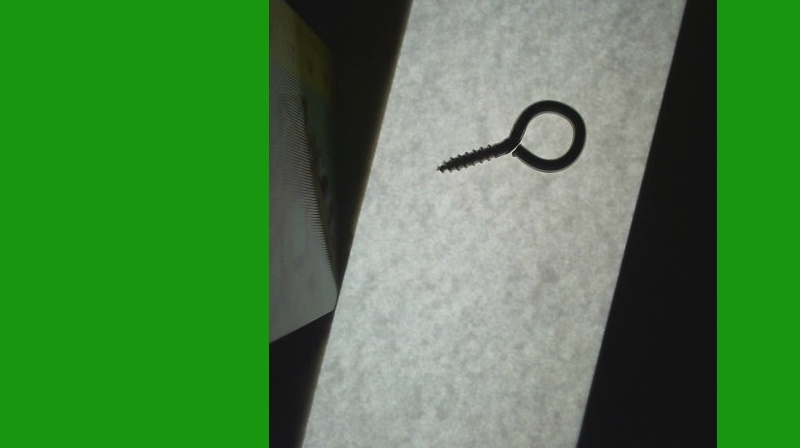O001: (433, 96, 588, 181)
